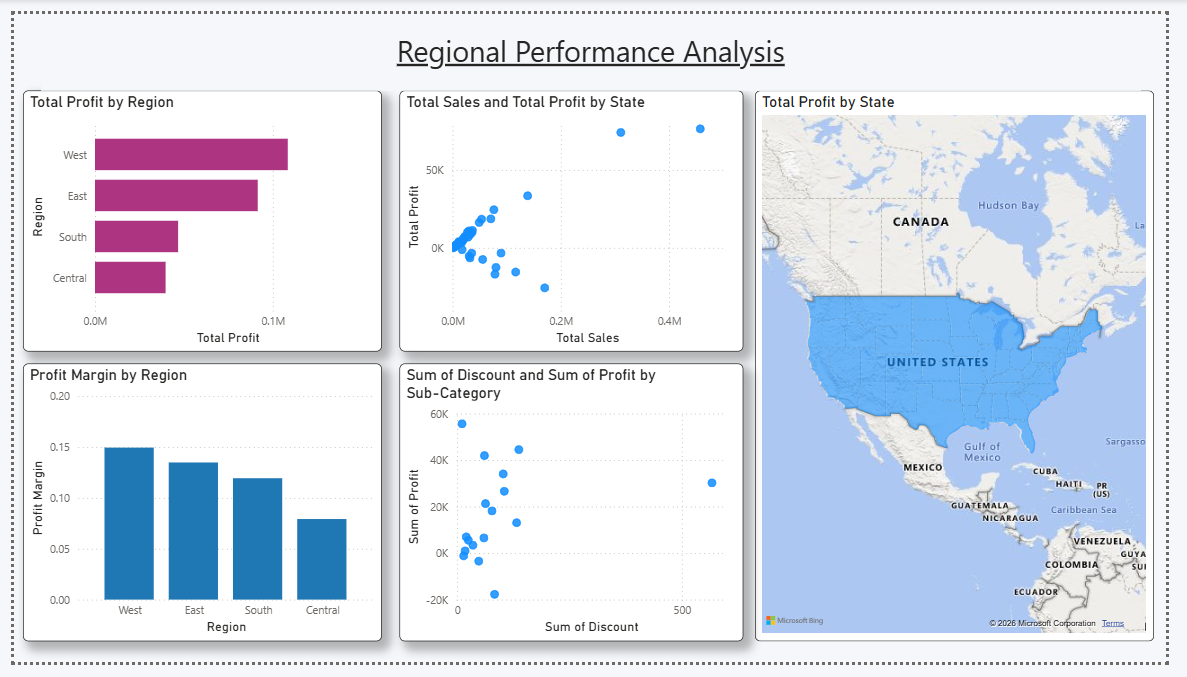

The page's visual inventory and layout, read from the dashboard file:
{"tool":"powerbi","page":{"name":"Regional Performance","canvas":[1280,720],"ordinal":2},"visuals":[{"type":"clusteredBarChart","fields":{"Y":["Orders.Total Profit"],"Category":["Orders.Region"]},"box":[10,85,398.3,290],"z":0},{"type":"clusteredColumnChart","fields":{"Y":["Orders.Profit Margin"],"Category":["Orders.Region"]},"box":[10,388.3,398.3,308.3],"z":1000},{"type":"scatterChart","fields":{"X":["Orders.Total Sales"],"Y":["Orders.Total Profit"],"Category":["Orders.State"]},"box":[428.3,85,381.7,290],"z":2000},{"type":"filledMap","fields":{"Category":["Orders.State"],"Y":["Orders.Total Profit"]},"box":[823.3,85,443.3,611.7],"z":3000},{"type":"scatterChart","fields":{"X":["Sum(Orders.Discount)"],"Y":["Sum(Orders.Profit)"],"Category":["Orders.Sub-Category"]},"box":[428.3,388.3,381.7,308.3],"z":4000},{"type":"textbox","box":[30,13.3,1221.7,71.7],"z":4001}]}

Visuals, with their boxes in screenshot pixels (x1, y1, x2, y2), scaled from the page's 1280x720 canvas onto the 1187x677 screenshot:
clusteredBarChart - Orders.Total Profit x Orders.Region: [9, 80, 379, 353]
clusteredColumnChart - Orders.Profit Margin x Orders.Region: [9, 365, 379, 655]
scatterChart - Orders.Total Sales x Orders.Total Profit: [397, 80, 751, 353]
filledMap - Orders.State x Orders.Total Profit: [763, 80, 1175, 655]
scatterChart - Sum(Orders.Discount) x Sum(Orders.Profit): [397, 365, 751, 655]
textbox: [28, 13, 1161, 80]
